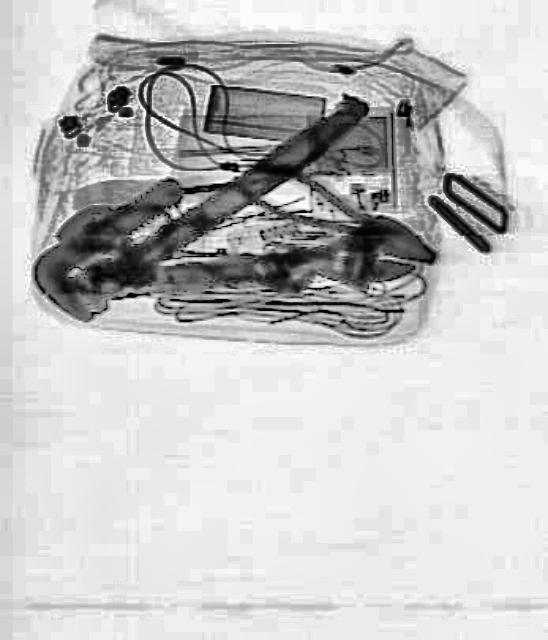Pliers: (222, 143, 444, 284)
